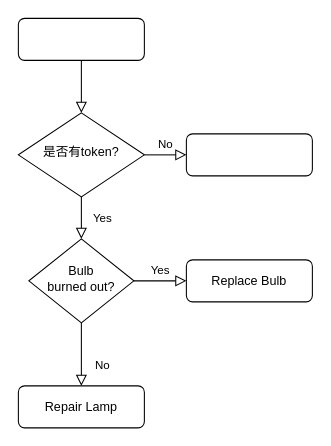
Some shapes in this 331 by 446 pixel diagram are drawn without their labels. Each missing label, with the box of its shape:
开始: (17, 17, 144, 60)
调用user/auth/request: (185, 133, 312, 176)
